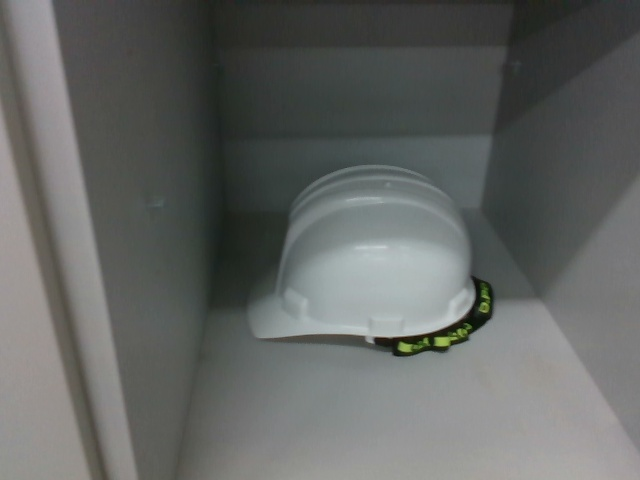helmet: (240, 159, 506, 361)
